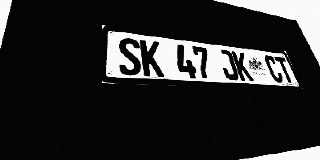4: (173, 44, 198, 79)
7: (191, 46, 215, 79)
C: (263, 55, 285, 83)
J: (217, 49, 240, 81)
K: (140, 40, 164, 77), (231, 51, 254, 81)
S: (118, 37, 142, 76)
T: (274, 56, 295, 83)
